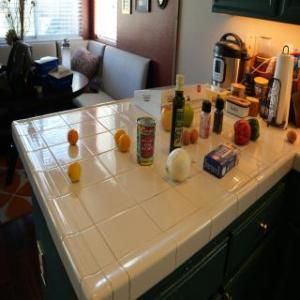bell_pepper: (234, 118, 250, 144), (246, 118, 260, 140)
egg: (286, 130, 298, 144), (189, 128, 198, 144), (182, 131, 190, 145)
onion: (164, 148, 196, 184)
